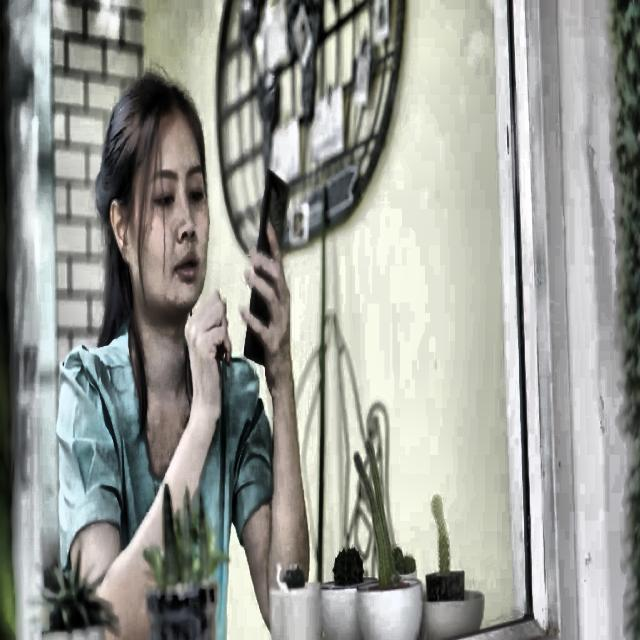Phone: (246, 168, 290, 366)
